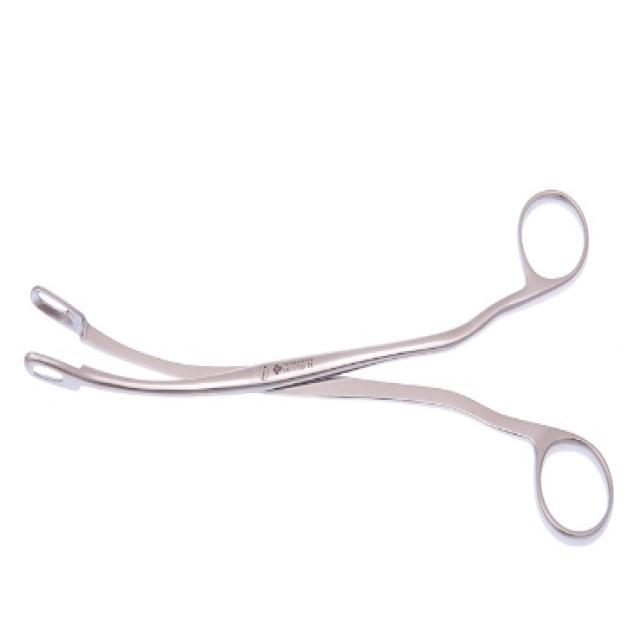Desjardin Forceps: (21, 176, 616, 554)
